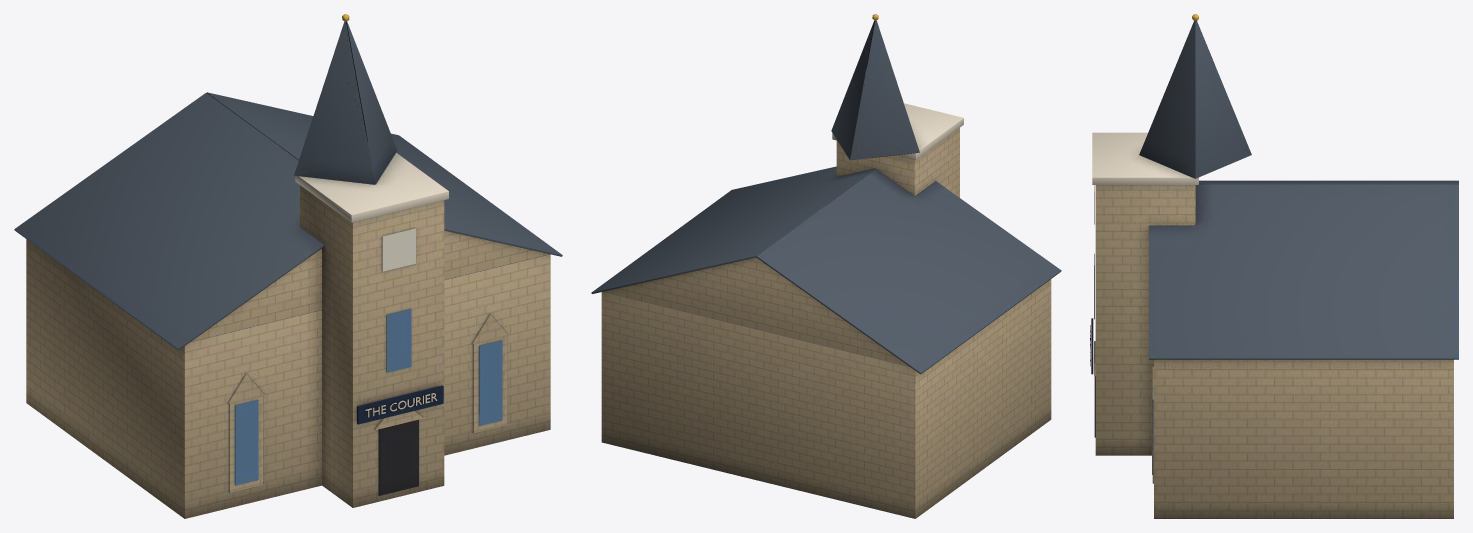
The model's file is courier.glb.
3 renders of one model, left to right at view 1: azimuth 30°, elevation 25°; view 2: azimuth 150°, elevation 25°; view 3: azimuth 270°, elevation 25°, orthographic. The views are drawn at different scales.
Visible parts, largest first — view 1: courier; view 2: courier; view 3: courier.
Boxes of the visible parts, left/top/right/bottom form: courier: left=14, top=14, right=562, bottom=518; courier: left=591, top=14, right=1061, bottom=518; courier: left=1090, top=14, right=1458, bottom=518.
Size of the model in its own units: 25.23 by 27.83 by 22.13.
1 material, 1 textured.
